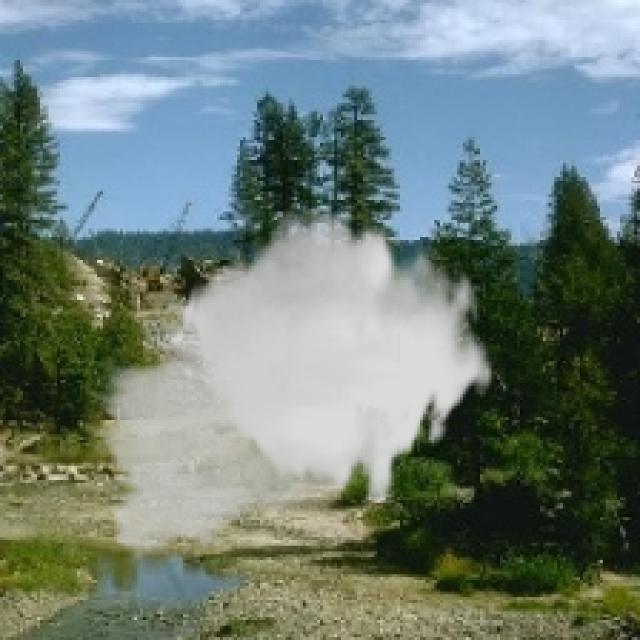smoke: (86, 208, 494, 572)
